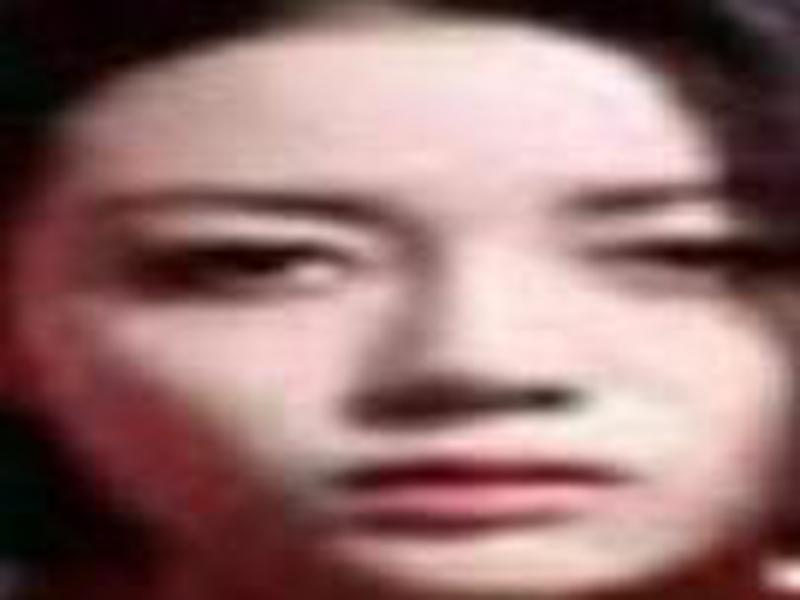without_mask: (28, 95, 798, 600)
